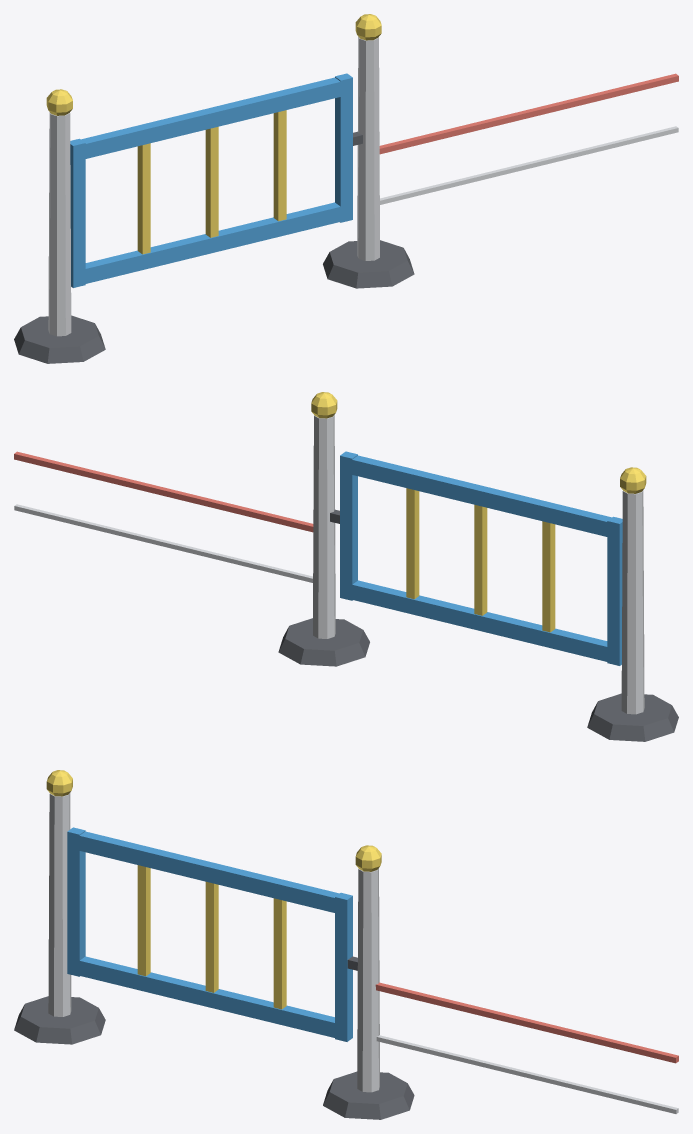
Rendered from dog-agility-and-training-field-ring-entry-gate-54f316f3__35597.glb.
3 views of the same model, one above another, from view 1: azimuth 30°, elevation 25°; view 2: azimuth 150°, elevation 25°; view 3: azimuth 330°, elevation 25° (orthographic).
Visible parts, largest first — view 1: gate/azure, ring-entry-gate-steel, ring-entry-gate-charcoal, gate/sunflower, ring-entry-gate-poppy, ring-entry-gate-sunflower; view 2: gate/azure, ring-entry-gate-steel, ring-entry-gate-charcoal, gate/sunflower, ring-entry-gate-poppy, ring-entry-gate-sunflower; view 3: gate/azure, ring-entry-gate-steel, ring-entry-gate-charcoal, gate/sunflower, ring-entry-gate-poppy, ring-entry-gate-sunflower.
Part boxes in pixels (<box>): gate/azure: <box>70,73,352,287</box>; ring-entry-gate-steel: <box>48,37,678,336</box>; ring-entry-gate-charcoal: <box>14,240,414,363</box>; gate/sunflower: <box>137,110,286,254</box>; ring-entry-gate-poppy: <box>379,73,678,154</box>; ring-entry-gate-sunflower: <box>46,14,381,115</box>; gate/azure: <box>340,451,622,665</box>; ring-entry-gate-steel: <box>14,415,644,714</box>; ring-entry-gate-charcoal: <box>278,618,678,741</box>; gate/sunflower: <box>406,488,555,632</box>; ring-entry-gate-poppy: <box>14,451,313,532</box>; ring-entry-gate-sunflower: <box>311,392,646,493</box>; gate/azure: <box>67,827,352,1041</box>; ring-entry-gate-steel: <box>48,793,678,1113</box>; ring-entry-gate-charcoal: <box>14,996,414,1119</box>; gate/sunflower: <box>137,865,286,1009</box>; ring-entry-gate-poppy: <box>375,982,678,1063</box>; ring-entry-gate-sunflower: <box>46,770,381,871</box>.
Bounding box in the file's own units: 3.2 × 1.18 × 0.3999.
